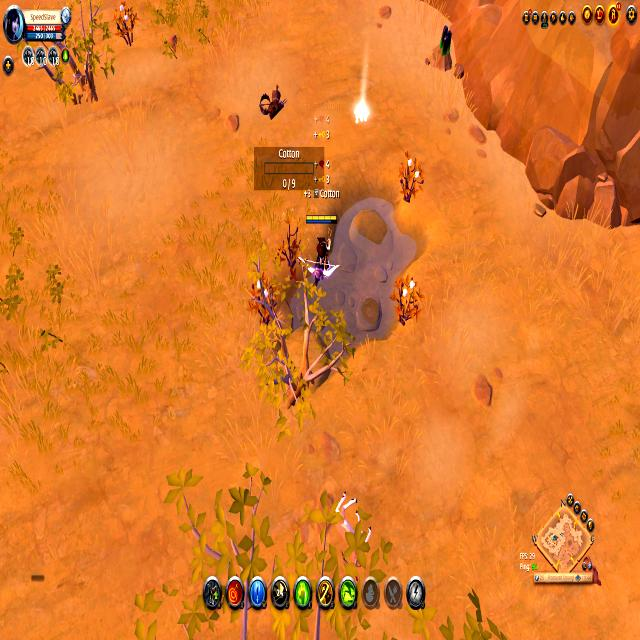hide: (249, 268, 280, 326), (392, 272, 423, 328), (111, 0, 139, 55), (400, 153, 424, 201)
ore: (332, 488, 374, 572)
player: (435, 22, 455, 67)
red: (304, 211, 338, 282)
stone: (353, 100, 369, 125)
